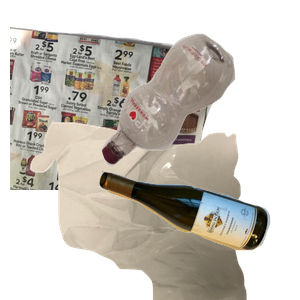glass: (95, 168, 300, 300)
paper: (10, 22, 225, 202)
plastic: (99, 31, 300, 189)
trash: (28, 120, 267, 300)
